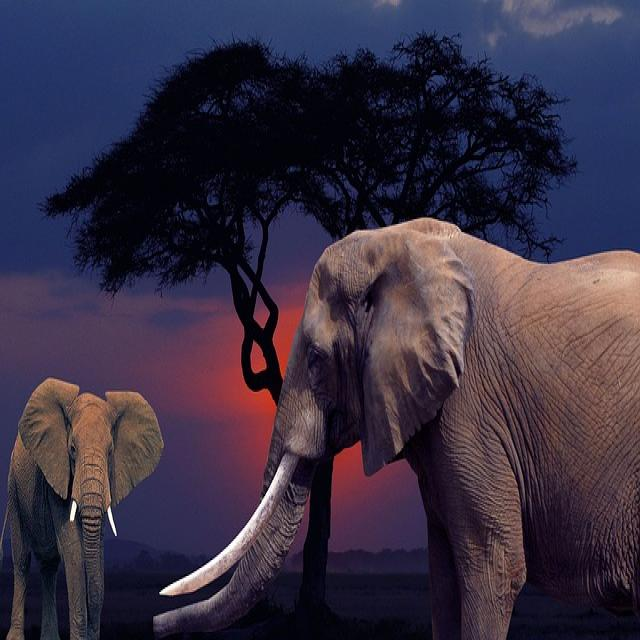elephant: (156, 218, 640, 638), (5, 378, 162, 639)
